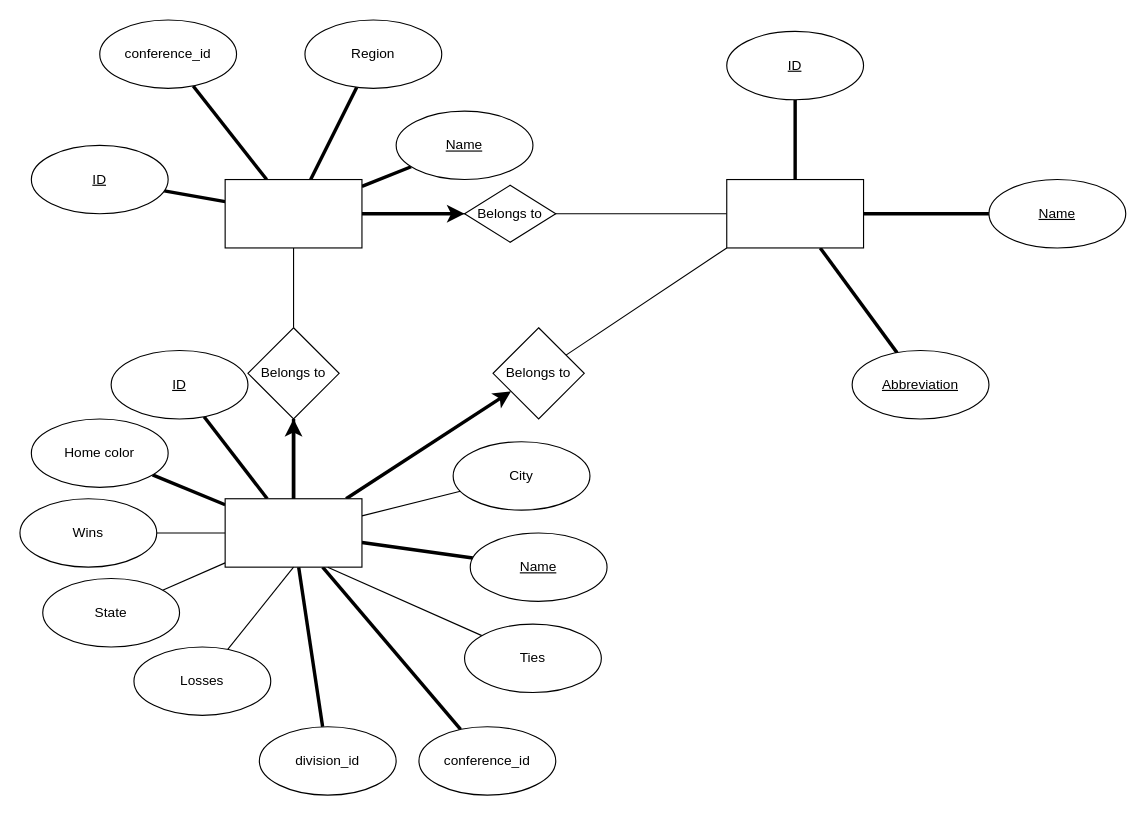
The diagram is 1146 pixels wide and 815 high, and some of its shapes have lost their labels. The box of each missing label's shape, as (x1, y1, x2, y2) in pixels:
Conference: (726, 178, 864, 248)
Division: (224, 178, 362, 248)
Team: (224, 498, 362, 567)
